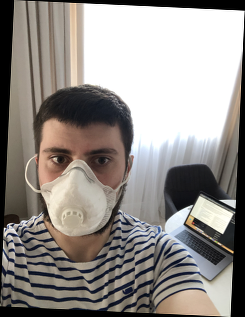with_mask: (37, 138, 122, 237)
